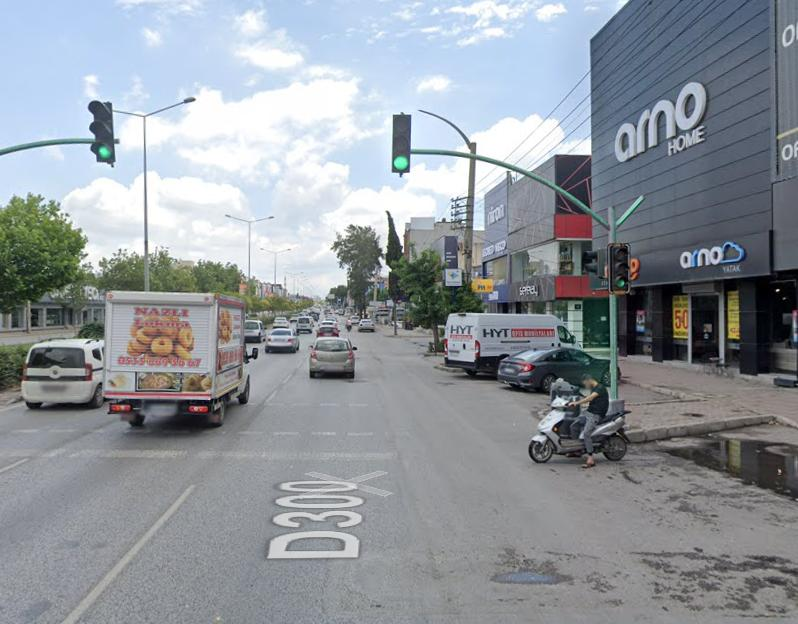greenlight: (85, 98, 117, 163), (391, 112, 411, 174), (609, 242, 631, 292)
